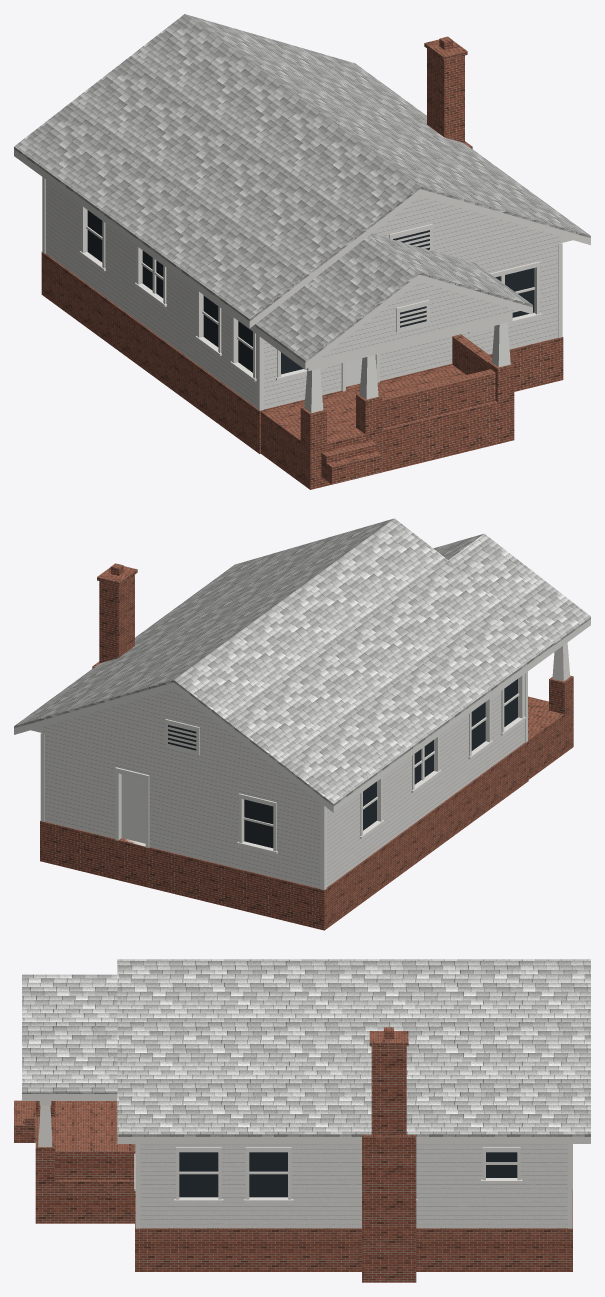
File: house-bungalow.glb
3 views of the same model, one above another, from view 1: azimuth 30°, elevation 25°; view 2: azimuth 150°, elevation 25°; view 3: azimuth 270°, elevation 25° (orthographic). The views are drawn at different scales.
Visible parts, largest first — view 1: House; view 2: House; view 3: House.
Boxes of the visible parts, x1=… form: House: x1=14, y1=14, x2=590, y2=489; House: x1=14, y1=518, x2=590, y2=930; House: x1=14, y1=959, x2=590, y2=1282.
Size of the model in its own units: 10.3 by 7.02 by 14.86.
6 materials, 3 textured.
